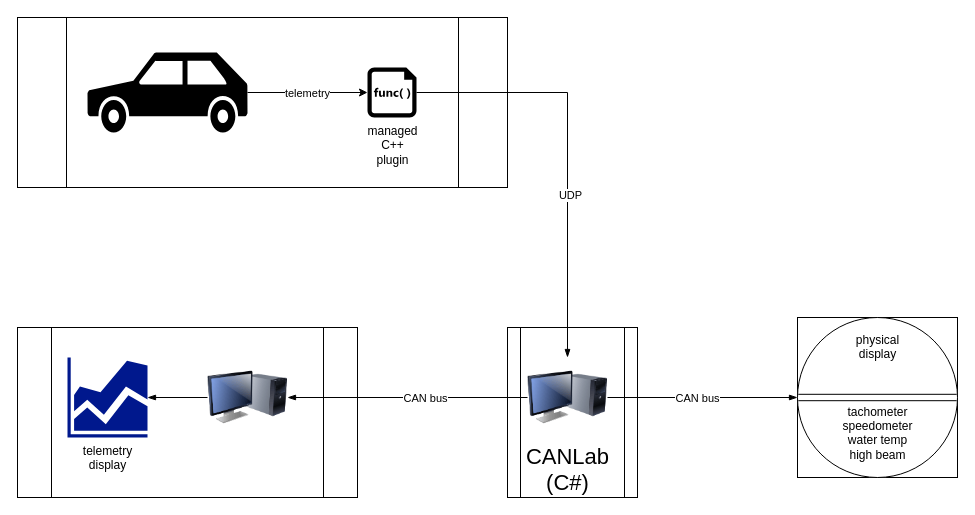
This 975x515 diagram has some shape labels left out. Each missing label, with the centre of its shape:
"rFactor (C API)" goes at point 167,92.
"VISION (C++)" goes at point 247,397.
